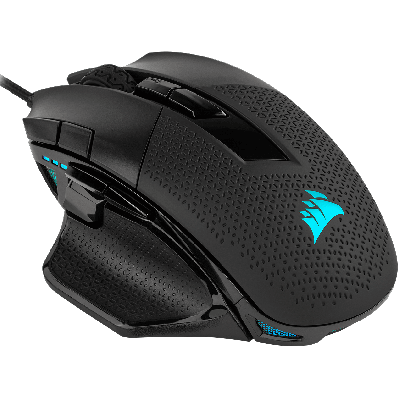Mouse: (18, 46, 400, 357)
